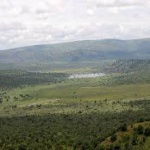Uncultivated: (7, 80, 109, 147)
